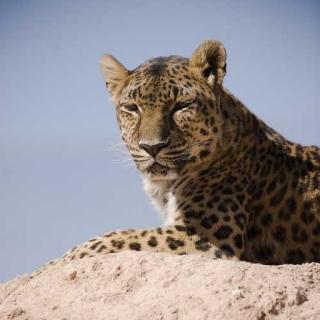Leopard: (90, 50, 320, 301)
